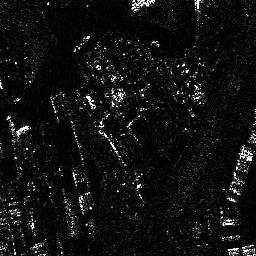ship: (71, 34, 90, 52)
